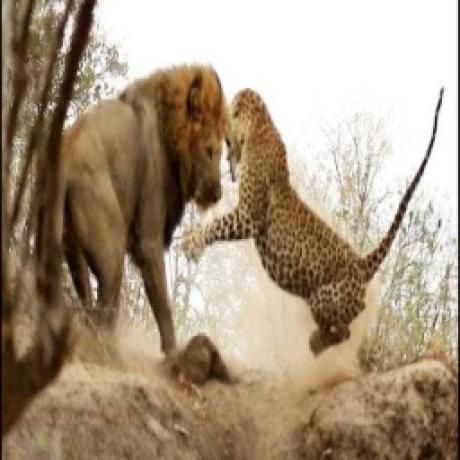Lion: (42, 56, 231, 377)
